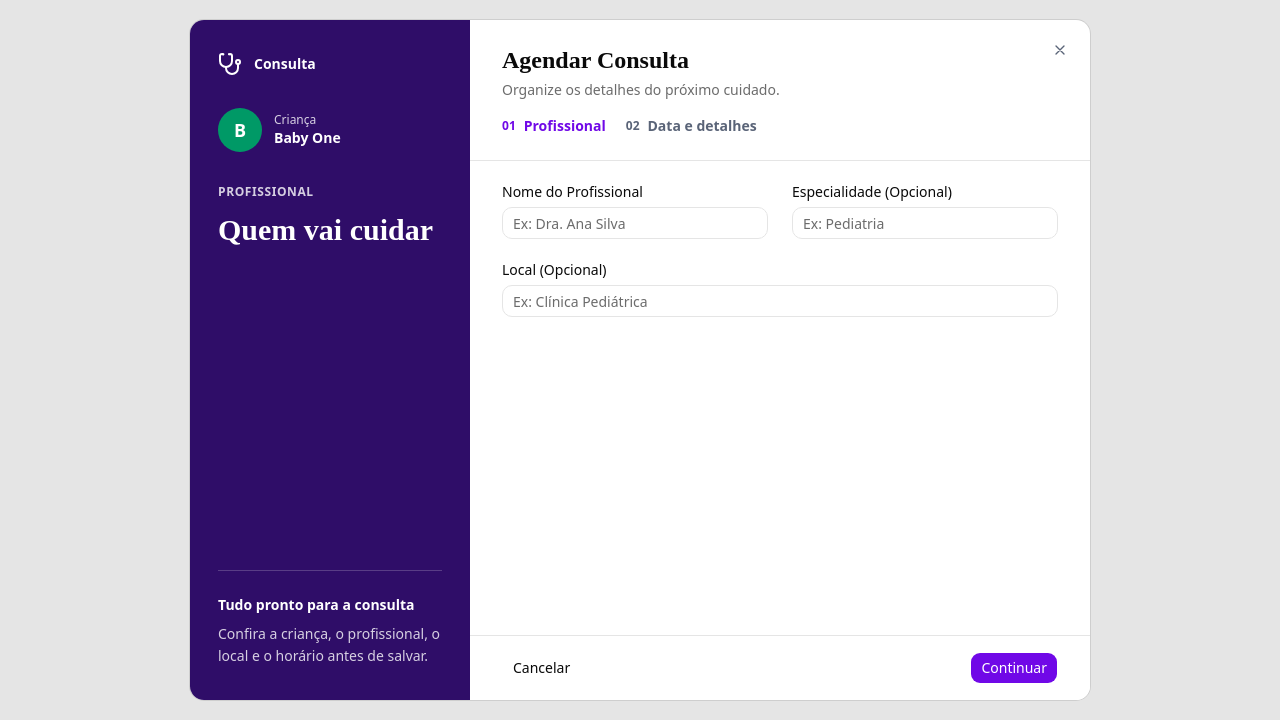
it: AddAppointmentDialog › lets the user go back to the professional step without losing what was typed
The image size is (1280, 720).
Type "Dra. Ana Silva" into the dropdown labelled "Nome do Profissional".
click(635, 223); type("Dra. Ana Silva")  # box [502,207,768,239]
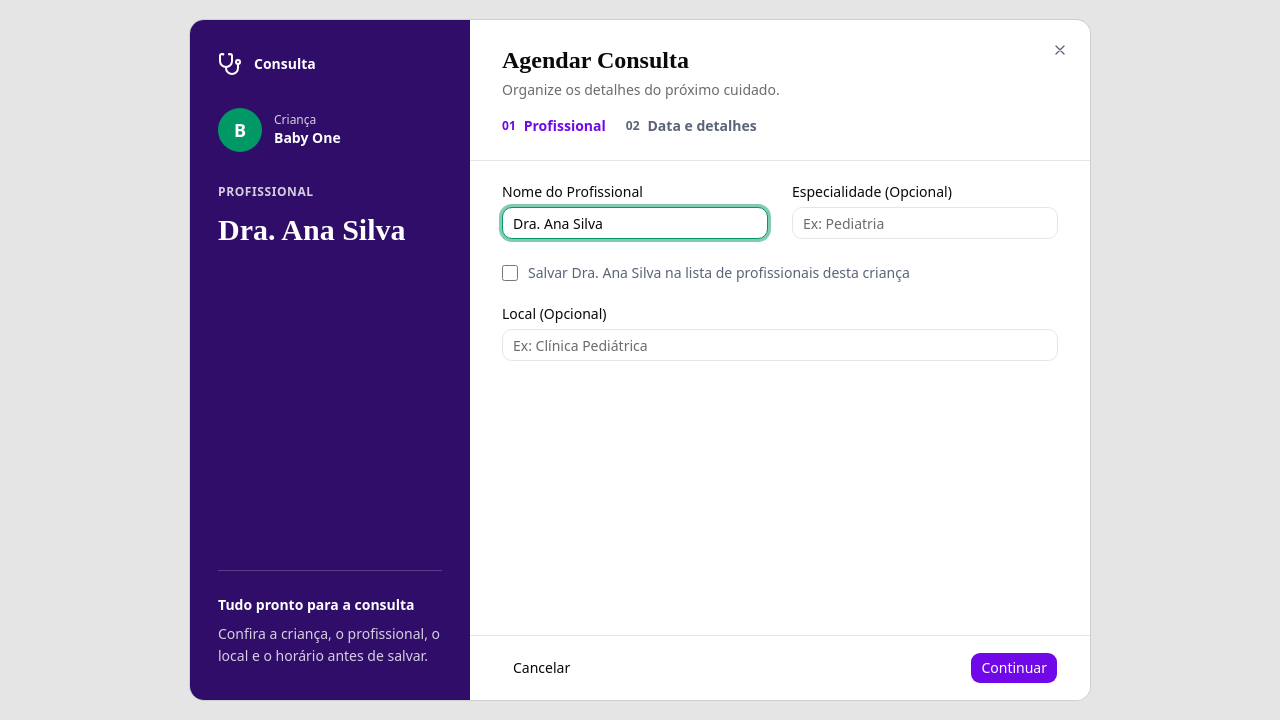
Click the button "Continuar".
click(1014, 668)  # box [970,652,1058,684]
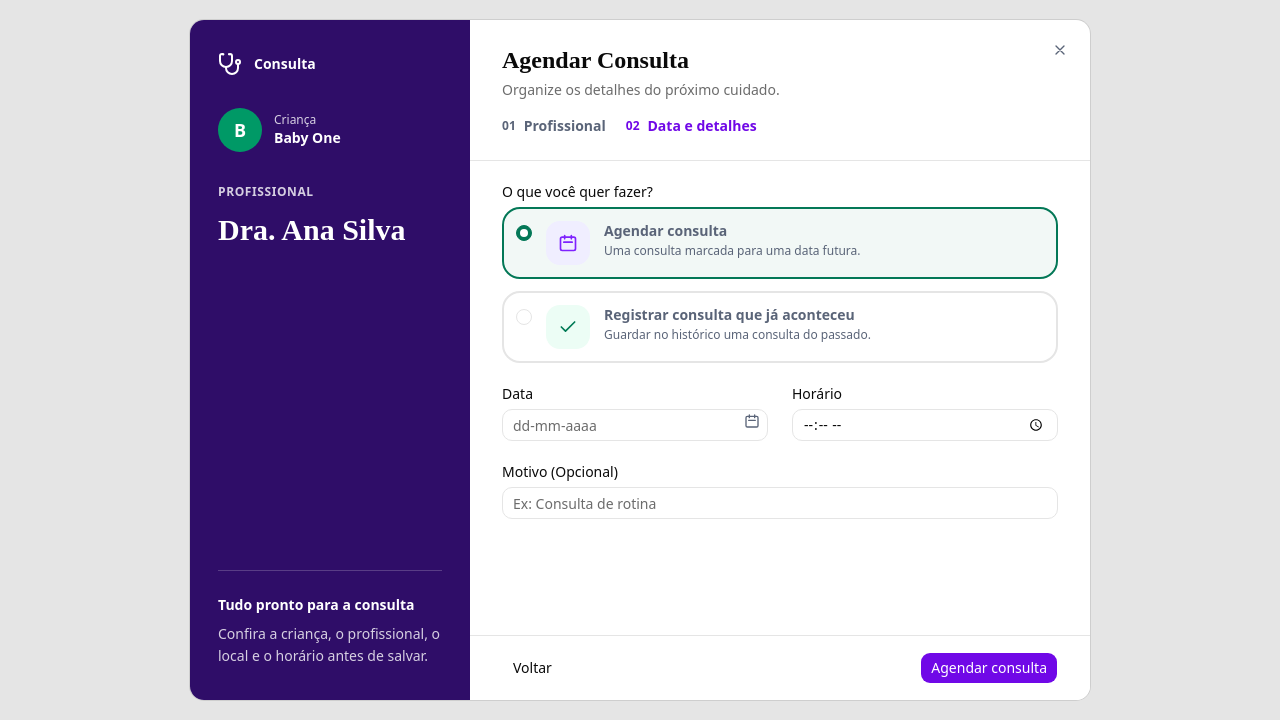
Check: the field labelled "Data" is shown, box [502,409,768,441]
Click the button "Voltar".
click(532, 668)  # box [502,652,563,684]
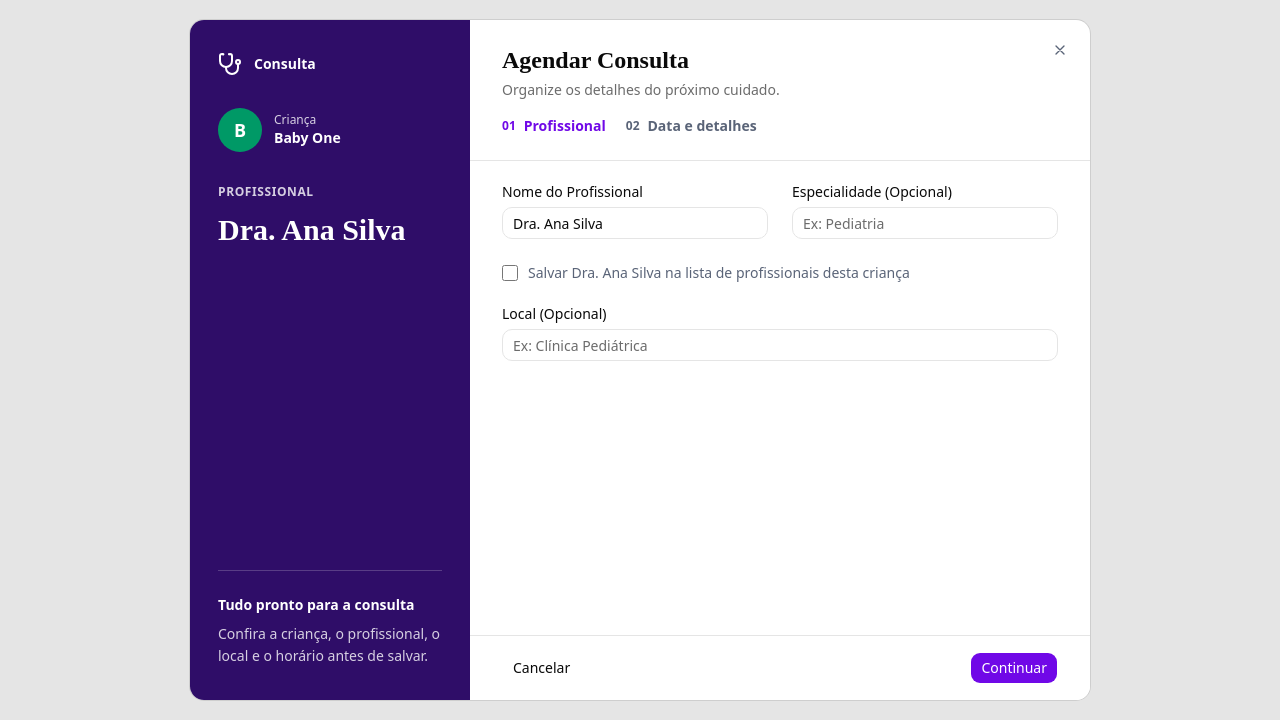
Check: the dropdown labelled "Nome do Profissional" holds "Dra. Ana Silva", box [502,207,768,239]
